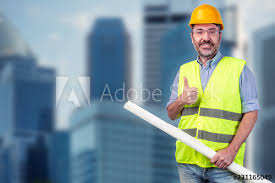hard hat: (187, 4, 224, 28)
high-vis: (175, 55, 247, 167)
